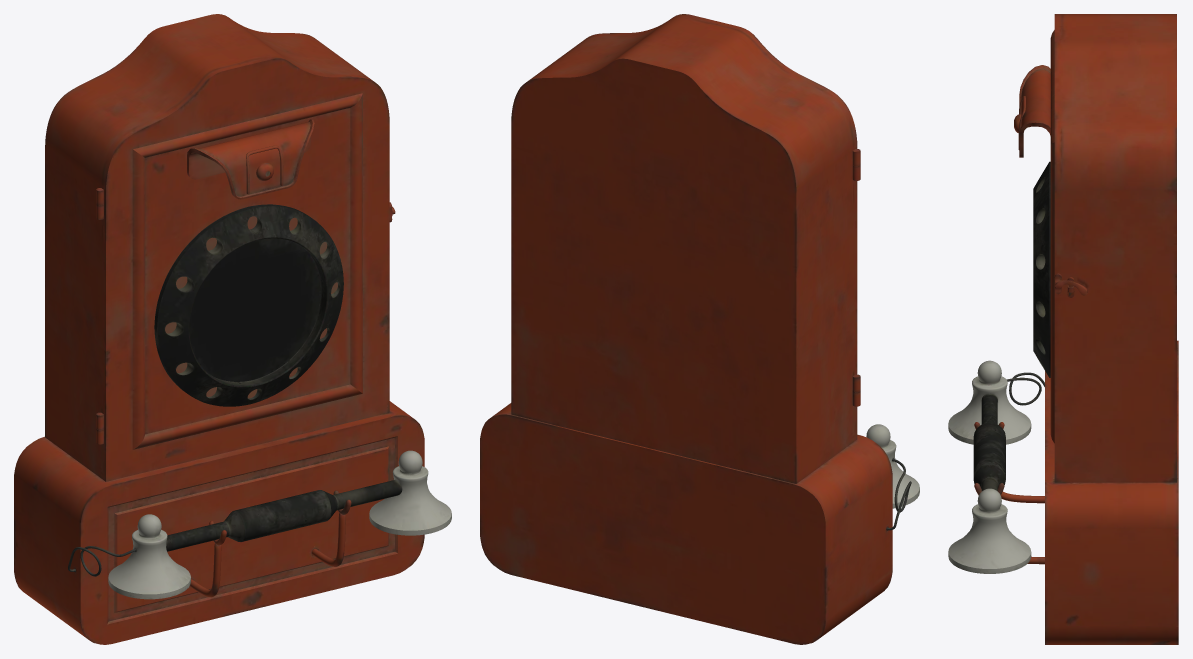
Rendered from vintage_telephone_wall_clock.glb.
The picture shows the model from 3 angles, left to right: view 1: azimuth 30°, elevation 25°; view 2: azimuth 150°, elevation 25°; view 3: azimuth 270°, elevation 25°; orthographic projection.
Parts seen in each view (by area): view 1: vintage_telephone_wall_clock; view 2: vintage_telephone_wall_clock; view 3: vintage_telephone_wall_clock.
Part boxes in pixels (box(x1,y1,x2,y2)): vintage_telephone_wall_clock: box(14, 14, 451, 644); vintage_telephone_wall_clock: box(480, 14, 919, 644); vintage_telephone_wall_clock: box(948, 14, 1178, 644).
Size of the model in its own units: 0.3428 by 0.5012 by 0.1926.
2 materials, 2 textured.
